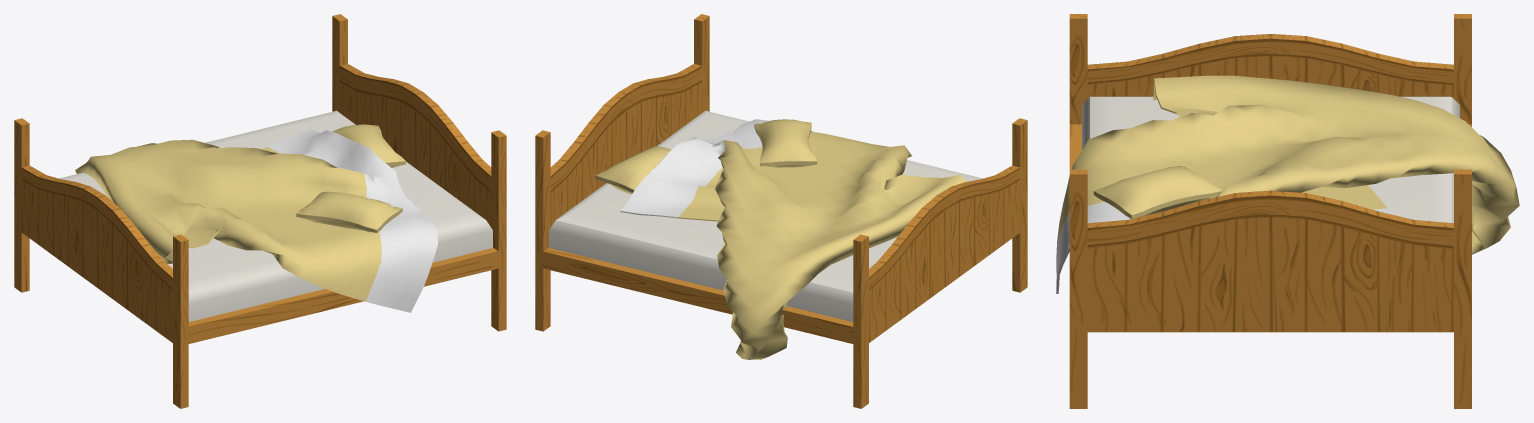
File: furniture_doubleBed_D.fbx
3 renders of one model, left to right at view 1: azimuth 30°, elevation 25°; view 2: azimuth 150°, elevation 25°; view 3: azimuth 270°, elevation 25°, orthographic. The views are drawn at different scales.
Parts seen in each view (by area): view 1: singleBed_top; view 2: singleBed_top; view 3: singleBed_top.
Part boxes in pixels (x1,y1,x2,y2): singleBed_top: (14,14,506,408); singleBed_top: (535,14,1027,408); singleBed_top: (1056,14,1519,408).
Size of the model in its own units: 34.85 by 19.79 by 35.45.
6 materials, 2 textured.
